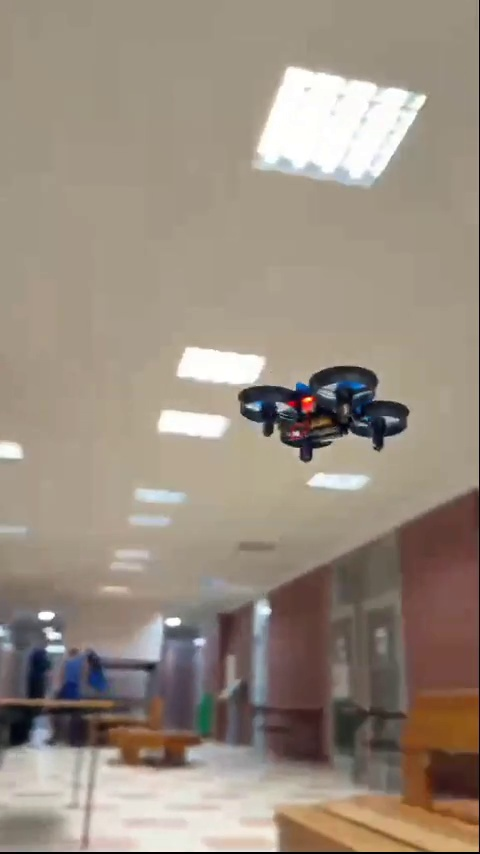drone: (236, 367, 411, 459)
no vest: (16, 636, 83, 695)
